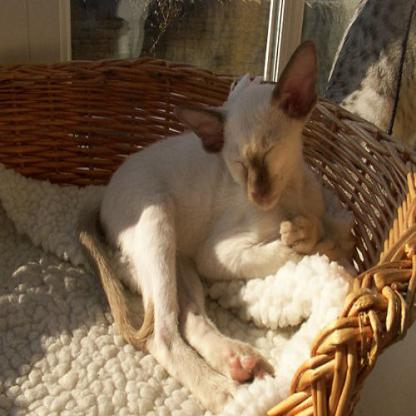cat: (78, 38, 327, 407)
